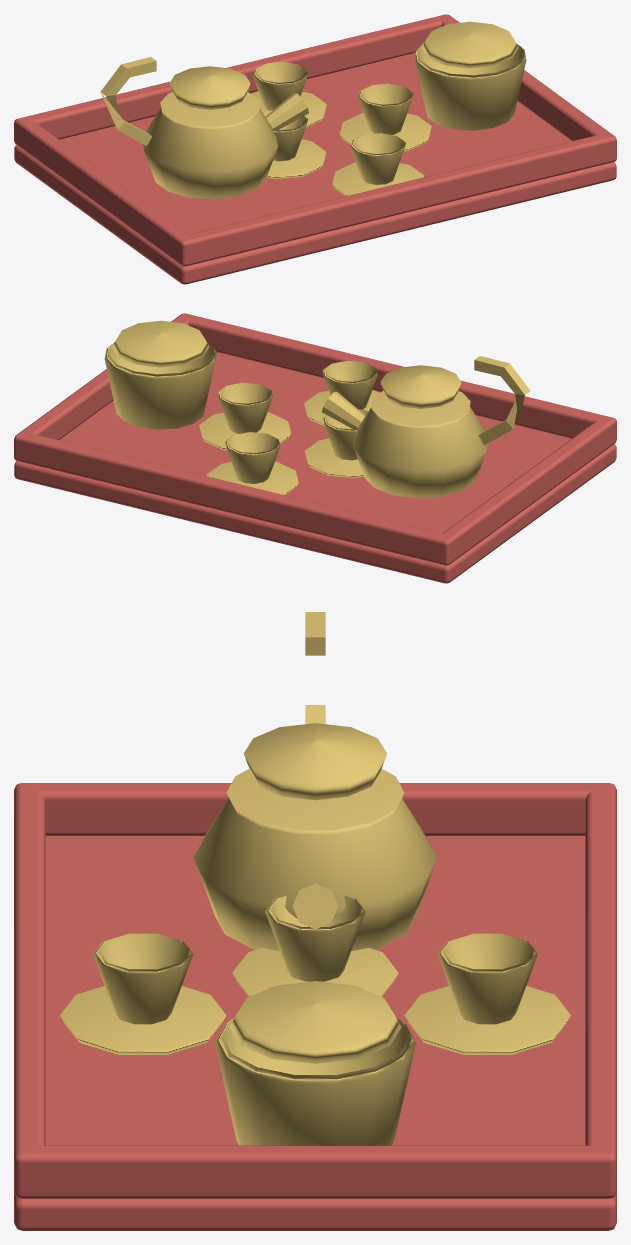
The model's file is tea-set.glb.
3 views of the same model, one above another, from view 1: azimuth 30°, elevation 25°; view 2: azimuth 150°, elevation 25°; view 3: azimuth 270°, elevation 25° (orthographic). The views are drawn at different scales.
Visible parts, largest first — view 1: tea-set-on-tray; view 2: tea-set-on-tray; view 3: tea-set-on-tray.
Boxes of the visible parts, x1,y1,x2,y2 form: tea-set-on-tray: (14, 14, 616, 284); tea-set-on-tray: (14, 313, 616, 583); tea-set-on-tray: (14, 612, 616, 1230).
Bounding box in the file's own units: 0.62 × 0.207 × 0.42.
